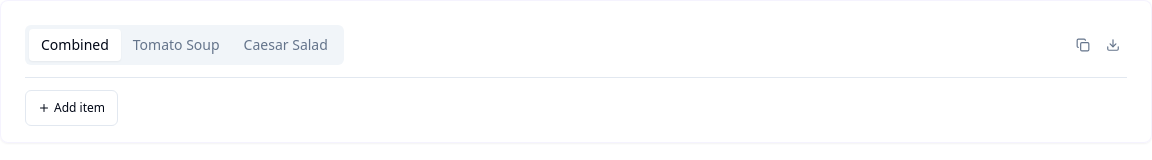
Scenario: GroceryListSection › hides add form on Cancel button click
Click the button "Add item" at x=72, y=108, box [25, 90, 118, 126]
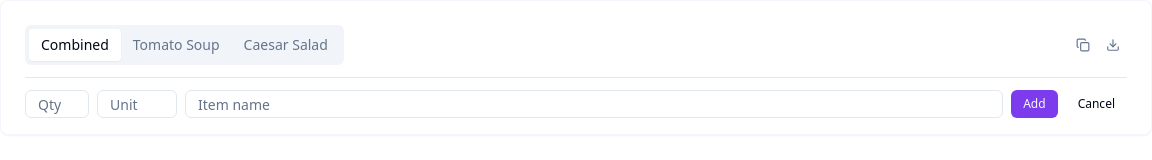
Result: the field named "New item name" is shown at [185, 90, 1003, 118]
Click the button "Cancel" at x=1096, y=104, box [1066, 90, 1127, 118]
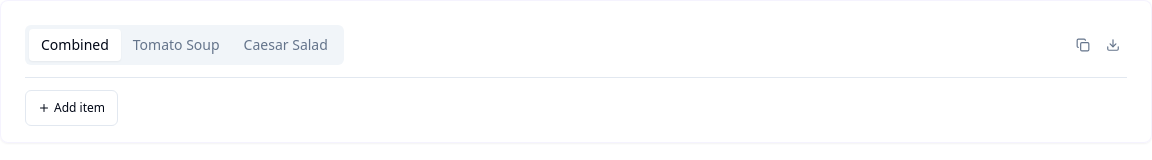
Result: the button "Add item" is shown at [25, 90, 118, 126]
